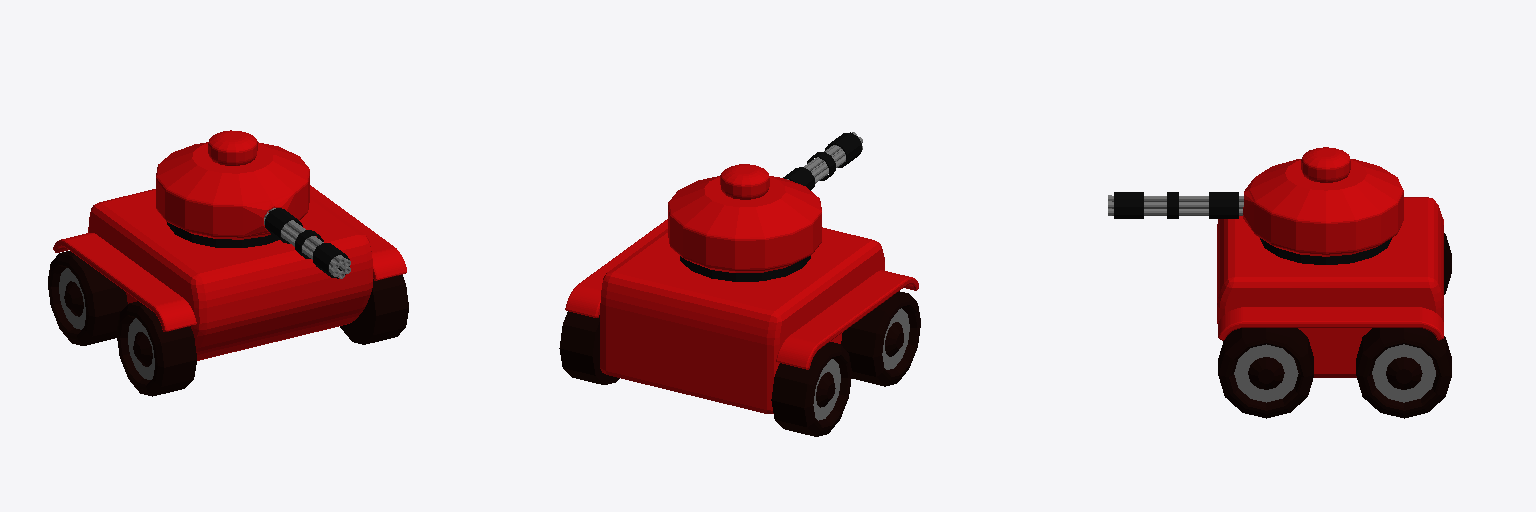
The model's file is tank.obj.
The picture shows the model from 3 angles: view 1: azimuth 30°, elevation 25°; view 2: azimuth 150°, elevation 25°; view 3: azimuth 270°, elevation 25°; orthographic projection.
Parts seen in each view (by area): view 1: Cube_Cube.001, Circle, Cylinder, Cube.001_Cube.002, Circle.001; view 2: Cube_Cube.001, Circle, Cylinder, Cube.001_Cube.002, Circle.001; view 3: Cube_Cube.001, Circle, Cylinder, Cube.001_Cube.002, Circle.001.
Boxes of the visible parts, x1=… form: Cube_Cube.001: x1=88, y1=189, x2=372, y2=360; Circle: x1=156, y1=130, x2=349, y2=278; Cylinder: x1=48, y1=251, x2=408, y2=396; Cube.001_Cube.002: x1=53, y1=185, x2=406, y2=331; Circle.001: x1=264, y1=208, x2=350, y2=278; Cube_Cube.001: x1=600, y1=227, x2=884, y2=413; Circle: x1=668, y1=132, x2=861, y2=281; Cylinder: x1=559, y1=291, x2=920, y2=436; Cube.001_Cube.002: x1=565, y1=219, x2=918, y2=369; Circle.001: x1=787, y1=132, x2=862, y2=183; Cube_Cube.001: x1=1217, y1=197, x2=1443, y2=377; Circle: x1=1114, y1=147, x2=1403, y2=264; Cylinder: x1=1218, y1=233, x2=1451, y2=418; Cube.001_Cube.002: x1=1218, y1=217, x2=1443, y2=340; Circle.001: x1=1108, y1=195, x2=1243, y2=215.
Size of the model in its own units: 3.16 by 2.46 by 3.74.